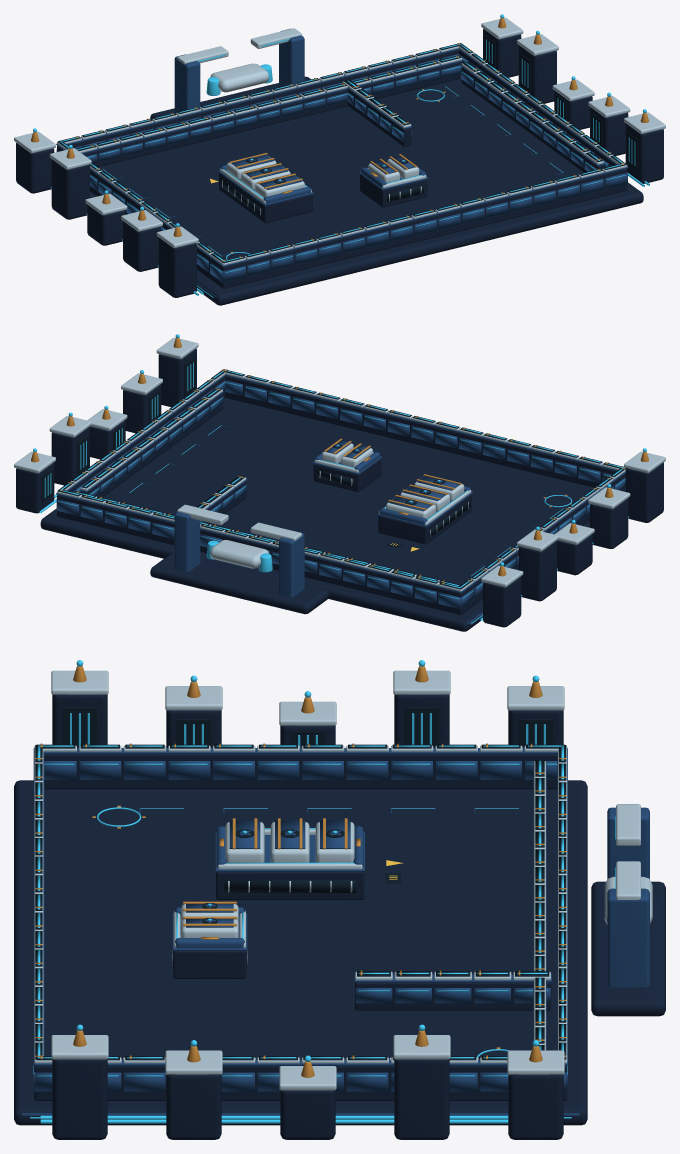
File: dock.runtime.gltf
3 views of the same model, one above another, from view 1: azimuth 30°, elevation 25°; view 2: azimuth 150°, elevation 25°; view 3: azimuth 270°, elevation 25° (orthographic). The views are drawn at different scales.
Visible parts, largest first — view 1: SOLID 0 border; view 2: SOLID 0 border; view 3: SOLID 0 border.
Boxes of the visible parts, left/top/right/bottom form: SOLID 0 border: left=14, top=14, right=665, bottom=305; SOLID 0 border: left=14, top=334, right=665, bottom=631; SOLID 0 border: left=14, top=660, right=665, bottom=1139.
Bounding box in the file's own units: 25.51 × 3.69 × 18.3.
